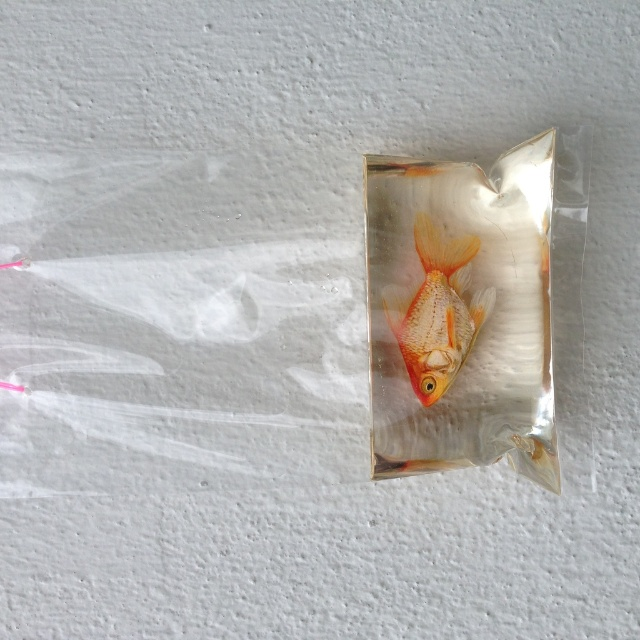Goldfish: (380, 208, 497, 402), (384, 210, 496, 408)
